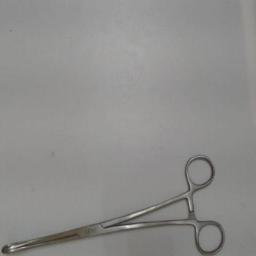Sponge Forceps: (0, 151, 228, 255)
